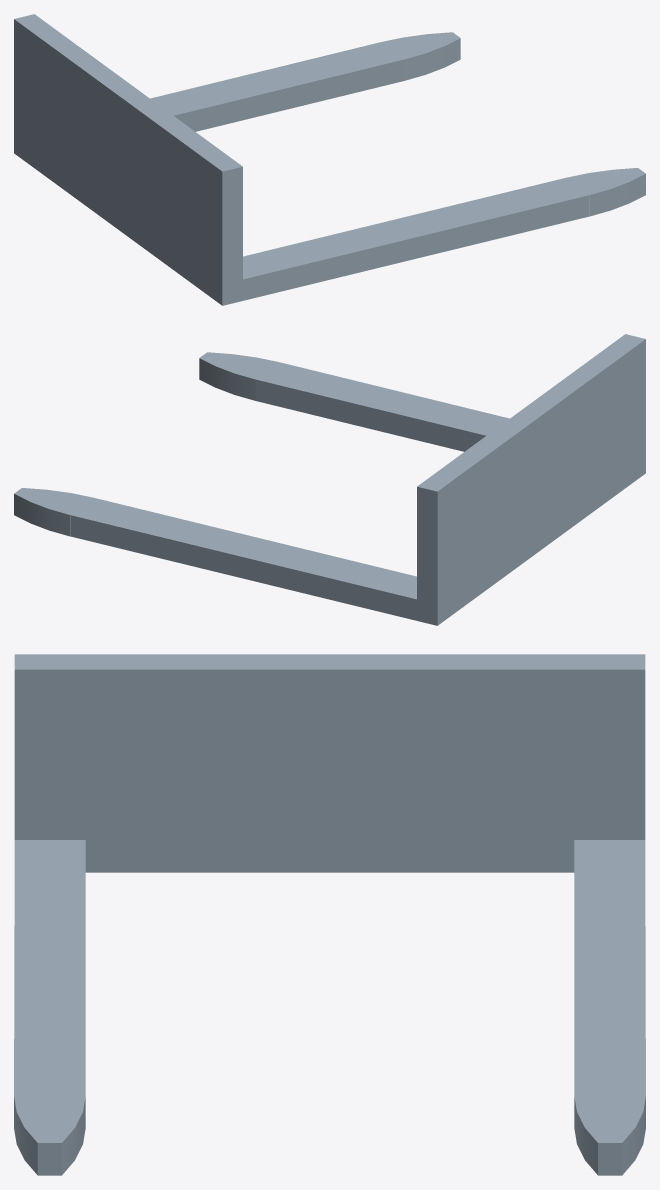
Rendered from sideshift_link_wide.dae.
The picture shows the model from 3 angles, top to bottom: view 1: azimuth 30°, elevation 25°; view 2: azimuth 150°, elevation 25°; view 3: azimuth 270°, elevation 25°; orthographic projection. The views are drawn at different scales.
Parts seen in each view (by area): view 1: ID2; view 2: ID2; view 3: ID2.
Boxes of the visible parts, x1,y1,x2,y2 form: ID2: (14,14,645,305); ID2: (14,334,645,625); ID2: (14,654,645,1175).
Bounding box in the file's own units: 0.84 × 0.7053 × 0.25.
